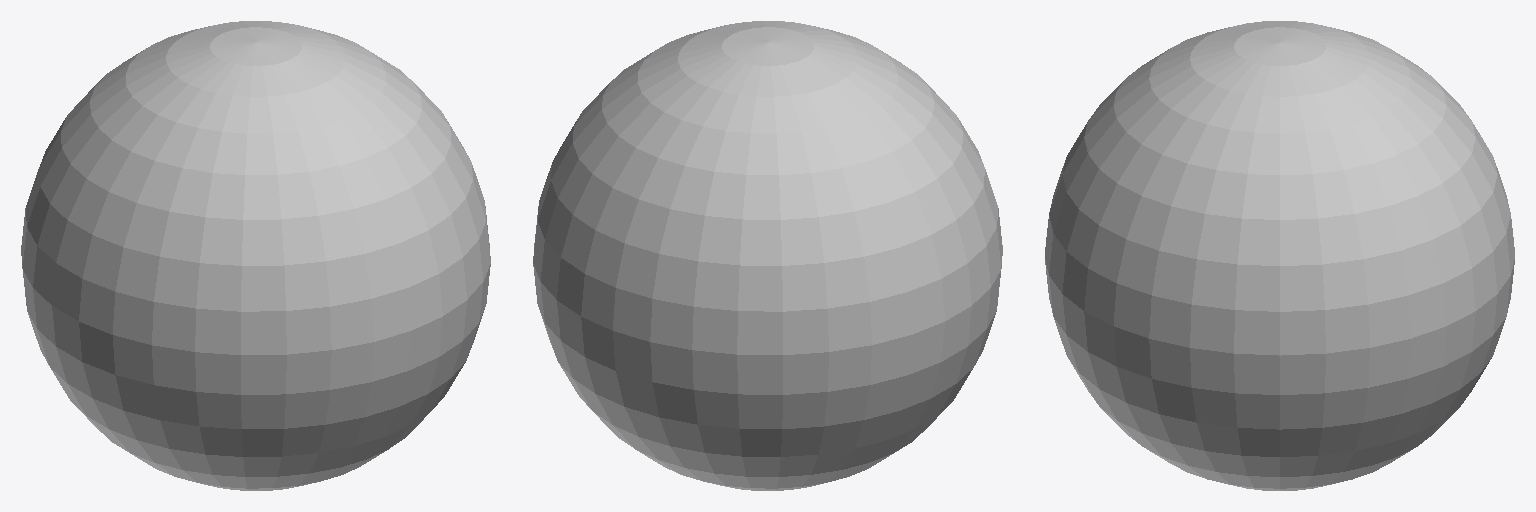
Rendered from moon.obj.
3 renders of one model, left to right at view 1: azimuth 30°, elevation 25°; view 2: azimuth 150°, elevation 25°; view 3: azimuth 270°, elevation 25°, orthographic.
Visible parts, largest first — view 1: Sphere; view 2: Sphere; view 3: Sphere.
Part boxes in pixels (bbox=[...]): Sphere: bbox=[21, 21, 490, 490]; Sphere: bbox=[533, 21, 1002, 490]; Sphere: bbox=[1045, 21, 1514, 490].
Bounding box in the file's own units: 0.4685 × 0.4685 × 0.4685.